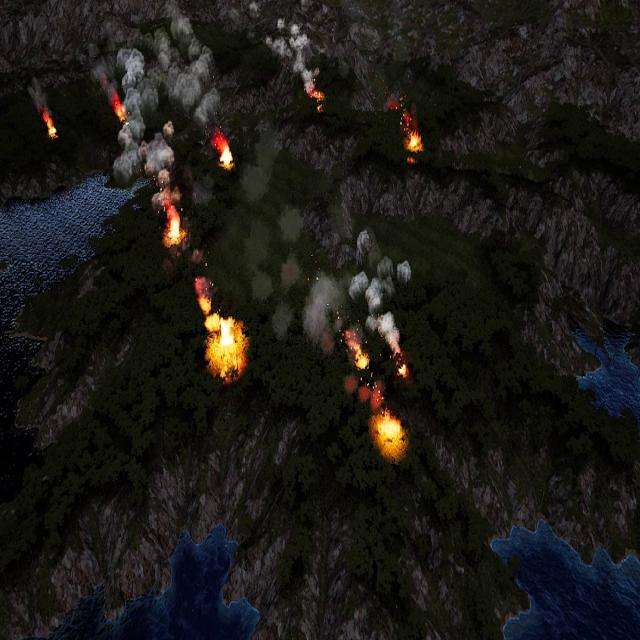fire: (201, 303, 245, 374), (374, 410, 404, 452), (402, 112, 423, 152), (349, 330, 370, 368), (213, 133, 233, 169), (166, 214, 184, 246), (310, 88, 327, 116), (112, 93, 125, 123), (41, 112, 56, 138), (398, 360, 411, 381)
smoke: (89, 8, 218, 204), (243, 125, 352, 354), (348, 228, 412, 356), (266, 14, 318, 92), (350, 375, 384, 409), (31, 86, 46, 114)
